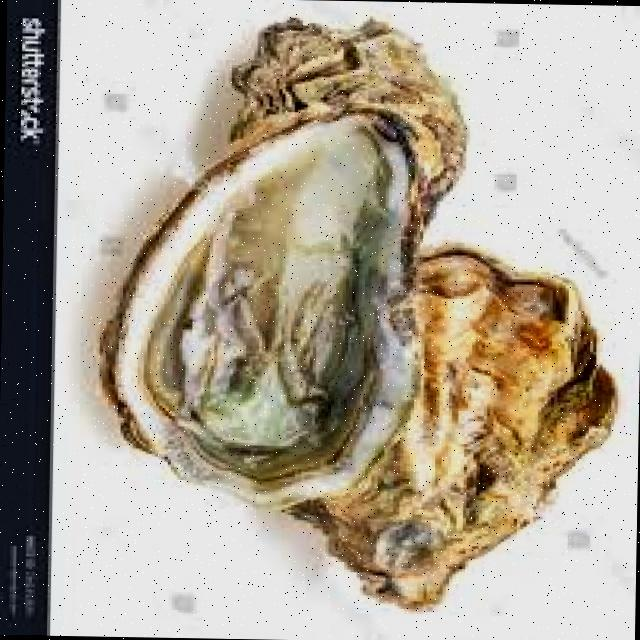Oyster-Closed: (290, 248, 615, 606), (213, 18, 466, 201)
Oyster-Open: (102, 116, 412, 507)
